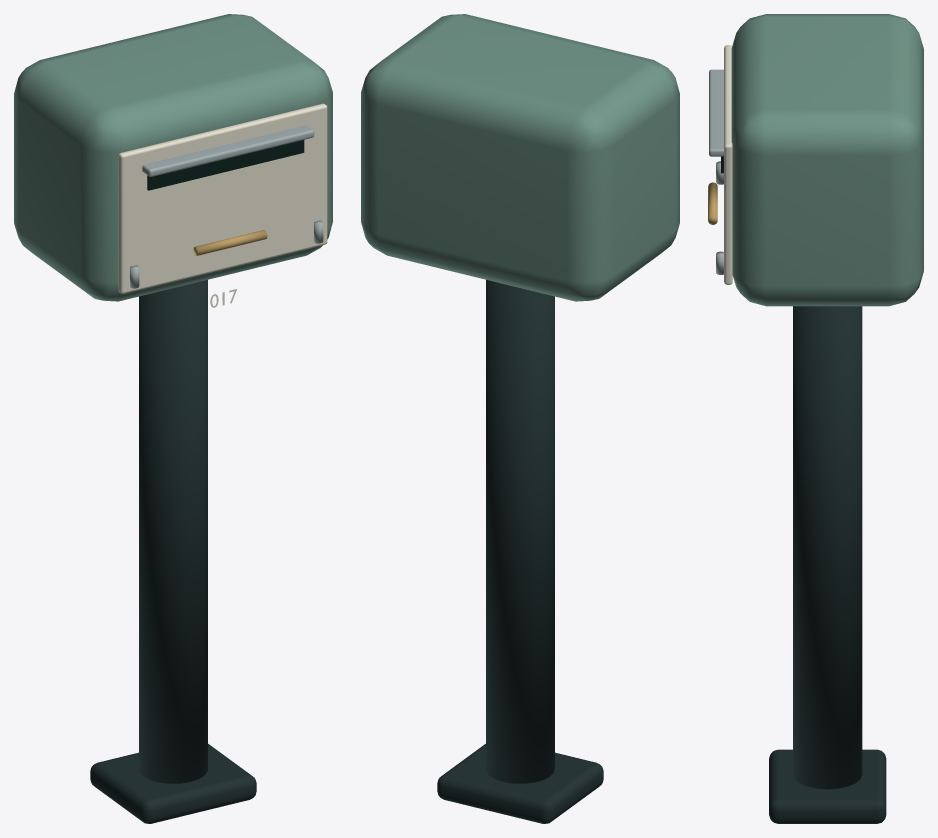
The model's file is mailbox.glb.
The picture shows the model from 3 angles, left to right: view 1: azimuth 30°, elevation 25°; view 2: azimuth 150°, elevation 25°; view 3: azimuth 270°, elevation 25°; orthographic projection.
Visible parts, largest first — view 1: mailbox; view 2: mailbox; view 3: mailbox.
Boxes of the visible parts, <box> form: mailbox: <box>14,14,332,823</box>; mailbox: <box>361,14,679,823</box>; mailbox: <box>708,14,923,823</box>.
Size of the model in its own units: 0.54 by 1.52 by 0.404.
